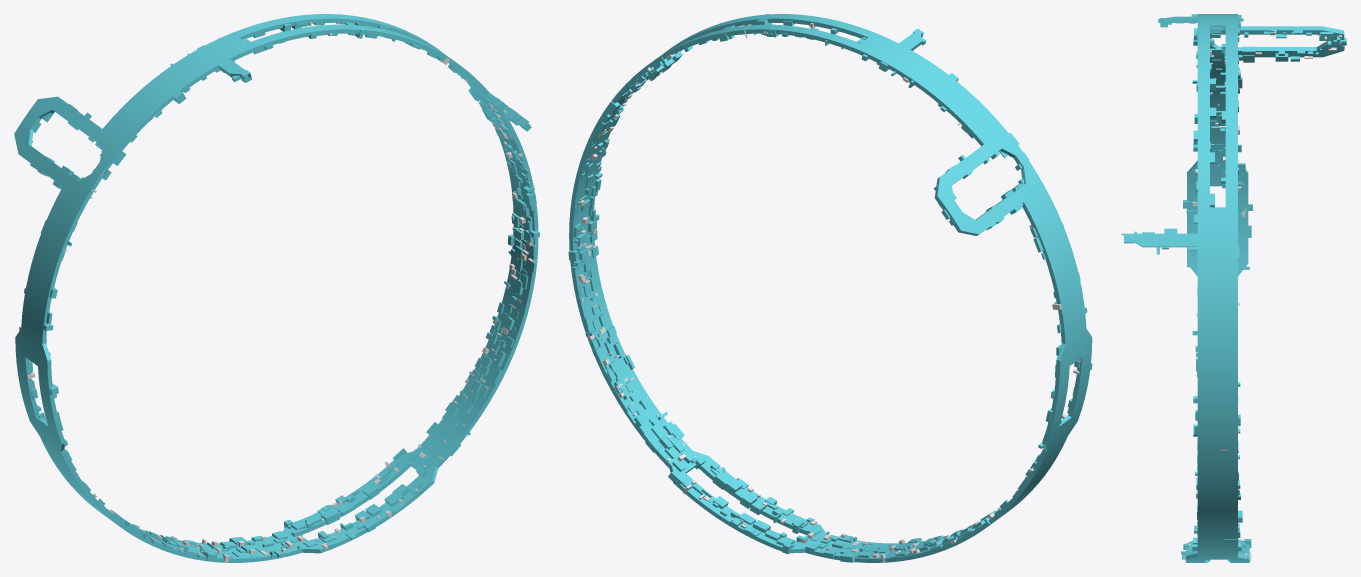
File: Ring.fbx
3 views of the same model, side by side, from view 1: azimuth 30°, elevation 25°; view 2: azimuth 150°, elevation 25°; view 3: azimuth 270°, elevation 25° (orthographic). The views are drawn at different scales.
Visible parts, largest first — view 1: Ring; view 2: Ring; view 3: Ring.
Boxes of the visible parts, left/top/right/bottom form: Ring: left=14, top=14, right=539, bottom=562; Ring: left=568, top=14, right=1092, bottom=562; Ring: left=1121, top=14, right=1346, bottom=562.
Bounding box in the file's own units: 121 × 121 × 49.66.
